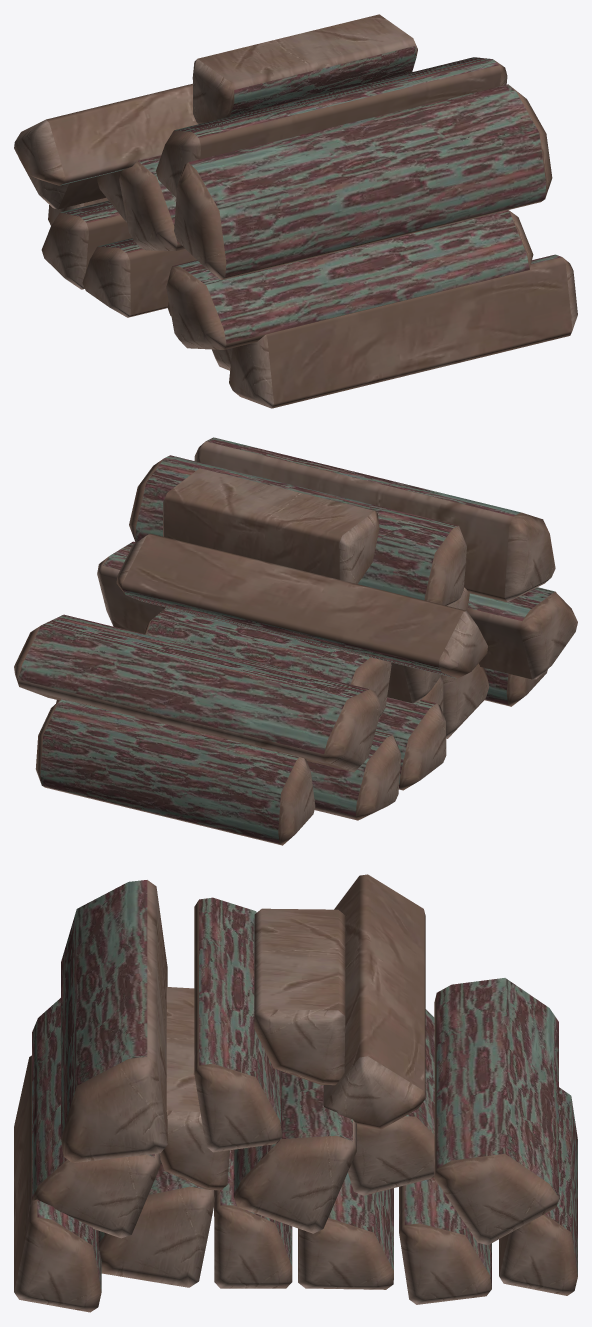
The picture shows the model from 3 angles, top to bottom: view 1: azimuth 30°, elevation 25°; view 2: azimuth 150°, elevation 25°; view 3: azimuth 270°, elevation 25°; orthographic projection. The views are drawn at different scales.
Parts seen in each view (by area): view 1: SM_WoodStack_01_LOD0; view 2: SM_WoodStack_01_LOD0; view 3: SM_WoodStack_01_LOD0.
Boxes of the visible parts, <box> form: SM_WoodStack_01_LOD0: <box>14,14,577,408</box>; SM_WoodStack_01_LOD0: <box>14,437,577,845</box>; SM_WoodStack_01_LOD0: <box>14,874,577,1312</box>.
Bounding box in the file's own units: 1.4 × 0.8193 × 1.48.
Materials: 1 (1 with a texture image).
